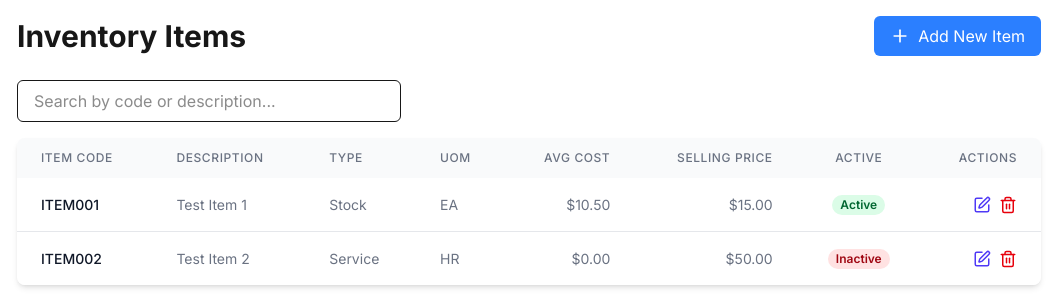
Test: InventoryItemsPage › filters items by search term
The width and height of the screenshot is (1059, 306).
Expected: the text "ITEM001" is shown, [17, 178, 152, 232]
Expected: the text "ITEM002" is shown, [17, 232, 152, 285]
Type "ITEM001" into the field with placeholder "Search by code or description...". click: point(209, 101)
box: [17, 80, 401, 122]
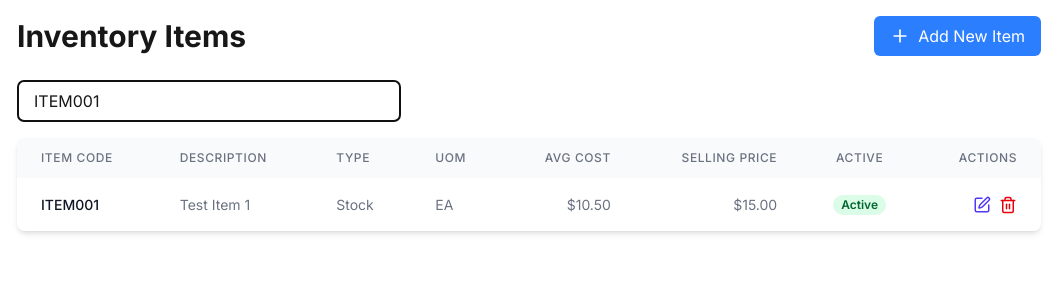
Expected: the text "ITEM001" is shown, [17, 178, 156, 231]
Result: the text "ITEM002" is gone
